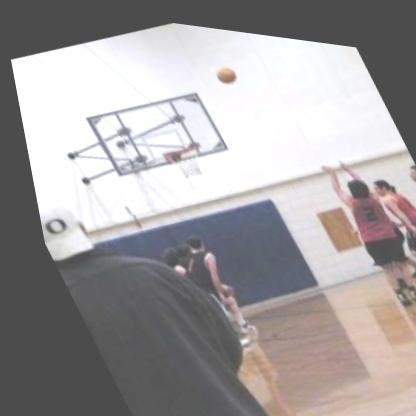basketball: (207, 53, 244, 88)
